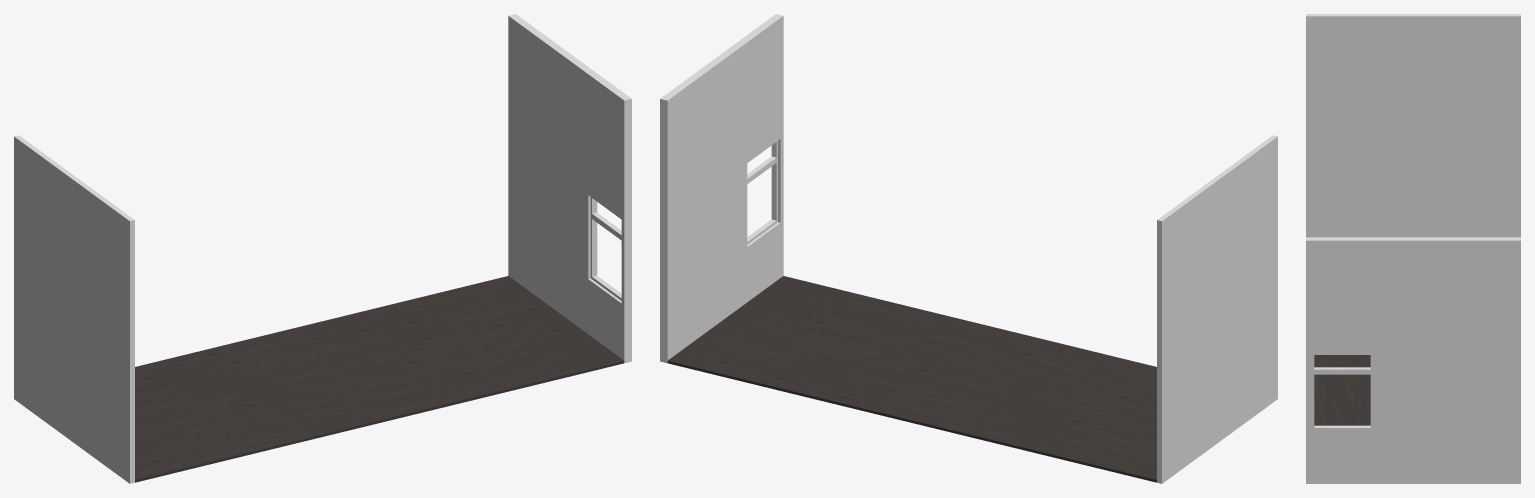
The model's file is Empty.obj.
3 views of the same model, side by side, from view 1: azimuth 30°, elevation 25°; view 2: azimuth 150°, elevation 25°; view 3: azimuth 270°, elevation 25° (orthographic). The views are drawn at different scales.
Bounding box in the file's own units: 20 × 10 × 8.
1 material, 1 textured.
